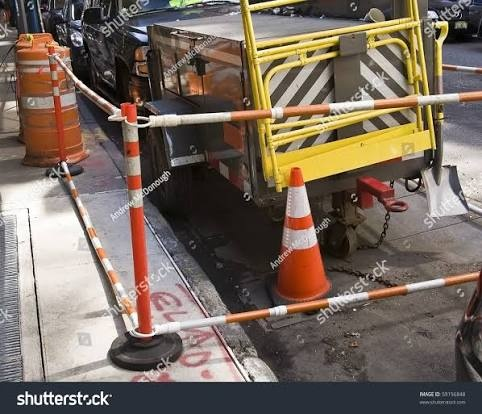safety_cone: (262, 157, 342, 302), (13, 45, 97, 166)
